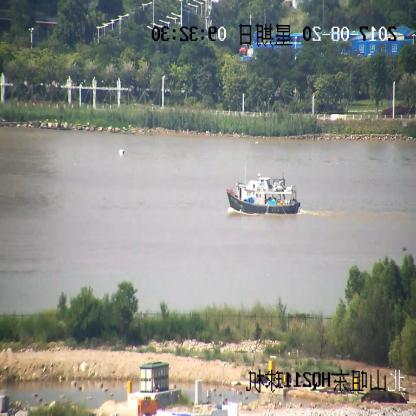Fishing Boat: (226, 174, 300, 214)
